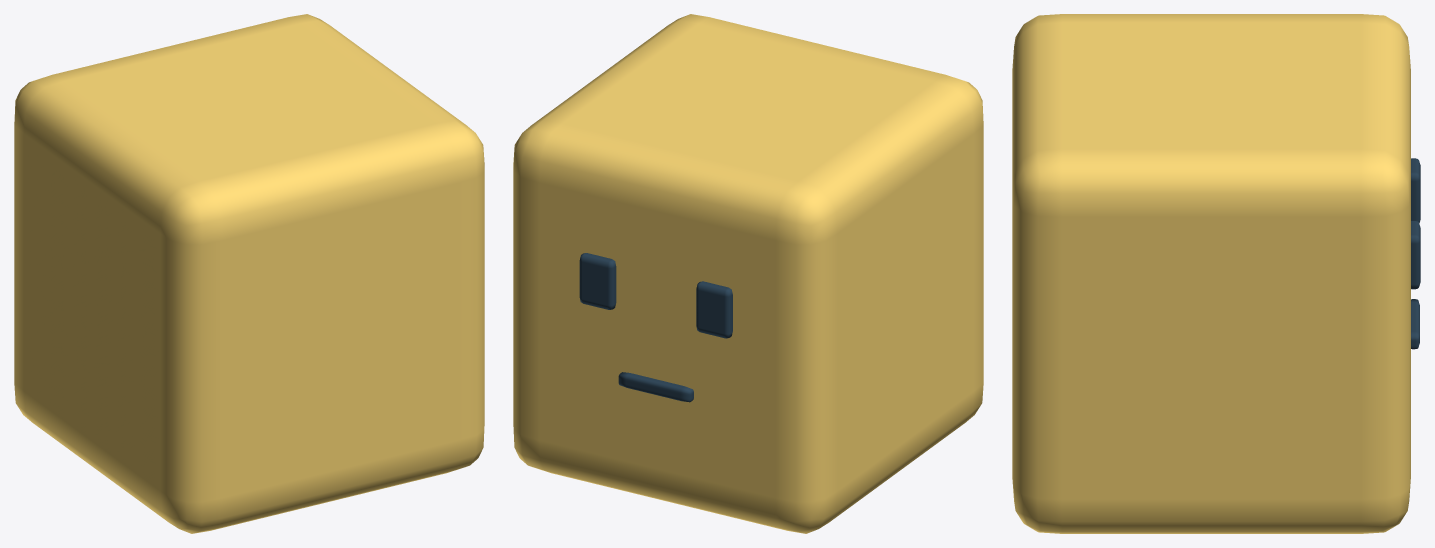
File: RingCharger.glb
3 renders of one model, left to right at view 1: azimuth 30°, elevation 25°; view 2: azimuth 150°, elevation 25°; view 3: azimuth 270°, elevation 25°, orthographic. The views are drawn at different scales.
Visible parts, largest first — view 1: Street Enemy; view 2: Street Enemy; view 3: Street Enemy.
Boxes of the visible parts, left/top/right/bottom form: Street Enemy: left=14, top=14, right=484, bottom=533; Street Enemy: left=513, top=14, right=983, bottom=533; Street Enemy: left=1012, top=14, right=1420, bottom=533.
Size of the model in its own units: 0.864 by 0.9 by 0.885.
